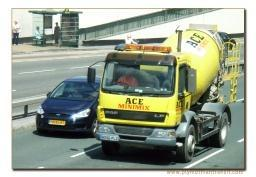person: (118, 68, 139, 88), (34, 26, 46, 45), (12, 20, 20, 47), (54, 22, 61, 44)
